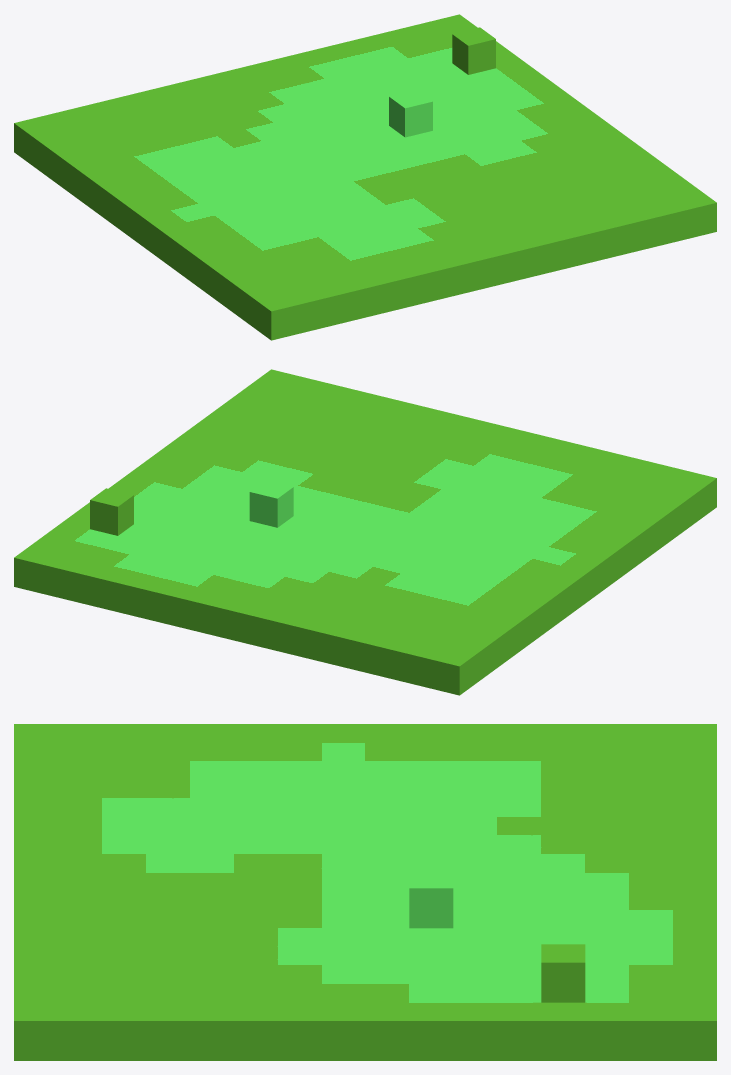
File: env_grass2c.fbx
3 renders of one model, top to bottom at view 1: azimuth 30°, elevation 25°; view 2: azimuth 150°, elevation 25°; view 3: azimuth 270°, elevation 25°, orthographic. The views are drawn at different scales.
Parts seen in each view (by area): view 1: env_grass2c; view 2: env_grass2c; view 3: env_grass2c.
Part boxes in pixels (x1,y1,x2,y2): env_grass2c: (14, 14, 716, 340); env_grass2c: (14, 369, 716, 695); env_grass2c: (14, 724, 716, 1060).
Size of the model in its own units: 1.6 by 1.6 by 0.2.
1 material, 1 textured.
